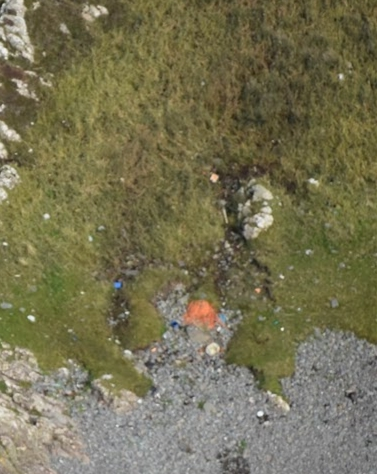white_in_green: (155, 270, 249, 351), (191, 154, 241, 202), (93, 262, 145, 305)
